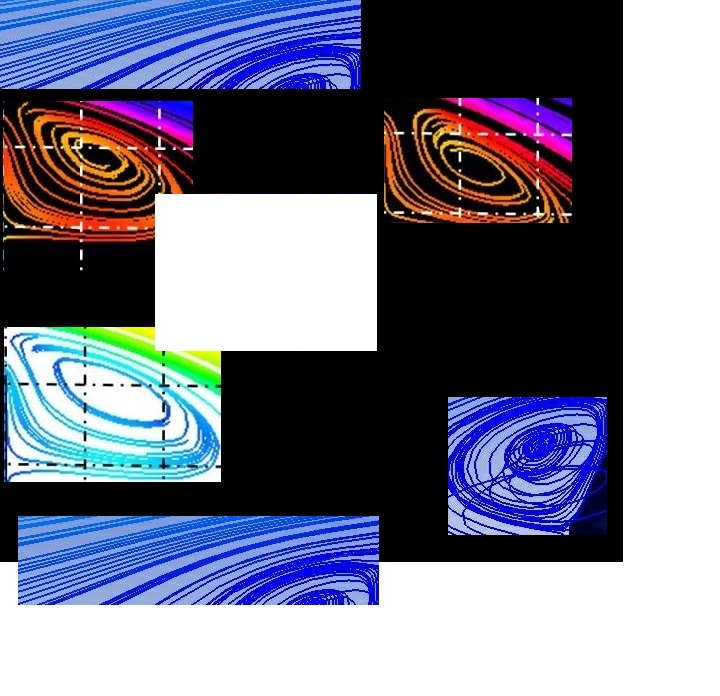vortox: (4, 328, 223, 482), (1, 100, 193, 242), (384, 95, 573, 222), (449, 396, 611, 535)
